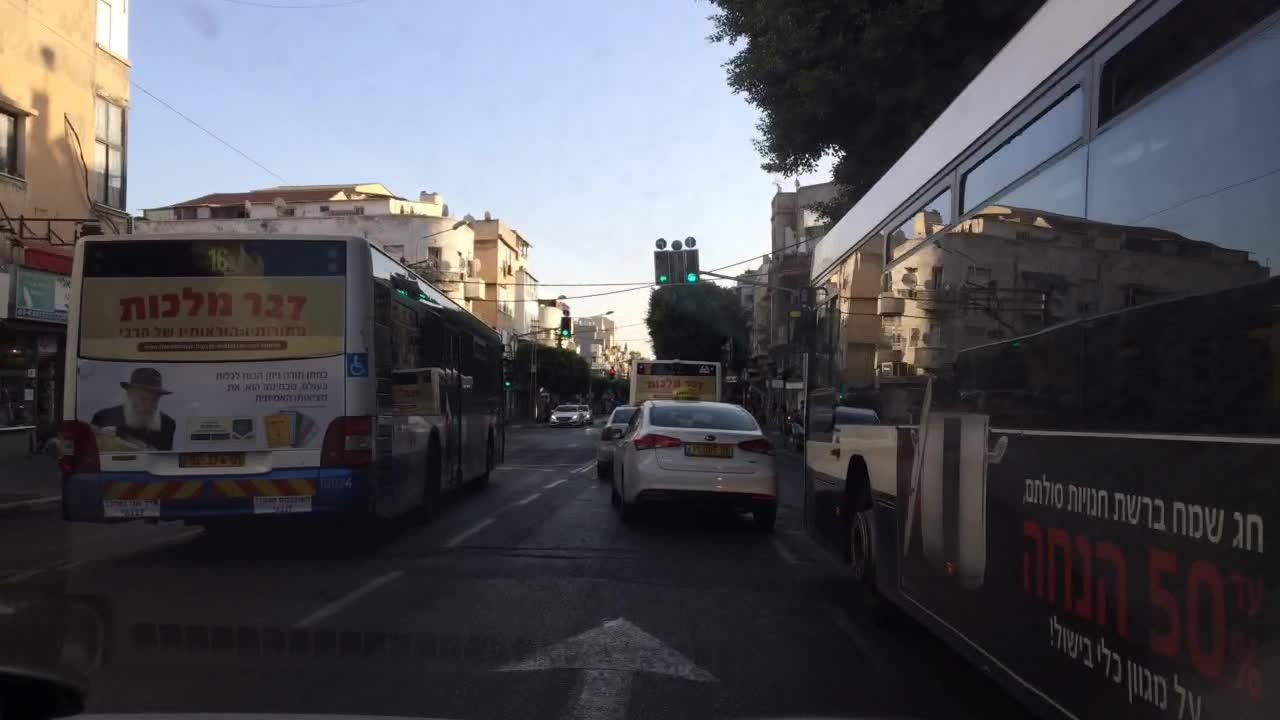bus: (793, 0, 1280, 719), (50, 227, 510, 536)
car: (604, 398, 782, 528), (592, 408, 641, 474), (547, 402, 583, 428), (576, 402, 593, 425)
traffic light: (669, 252, 687, 287), (685, 249, 698, 286), (655, 252, 669, 286), (561, 316, 573, 338), (503, 376, 512, 390), (607, 365, 613, 381)
traffic sign: (656, 236, 669, 250), (682, 236, 693, 249), (670, 236, 679, 249)
truck: (622, 362, 725, 405)
